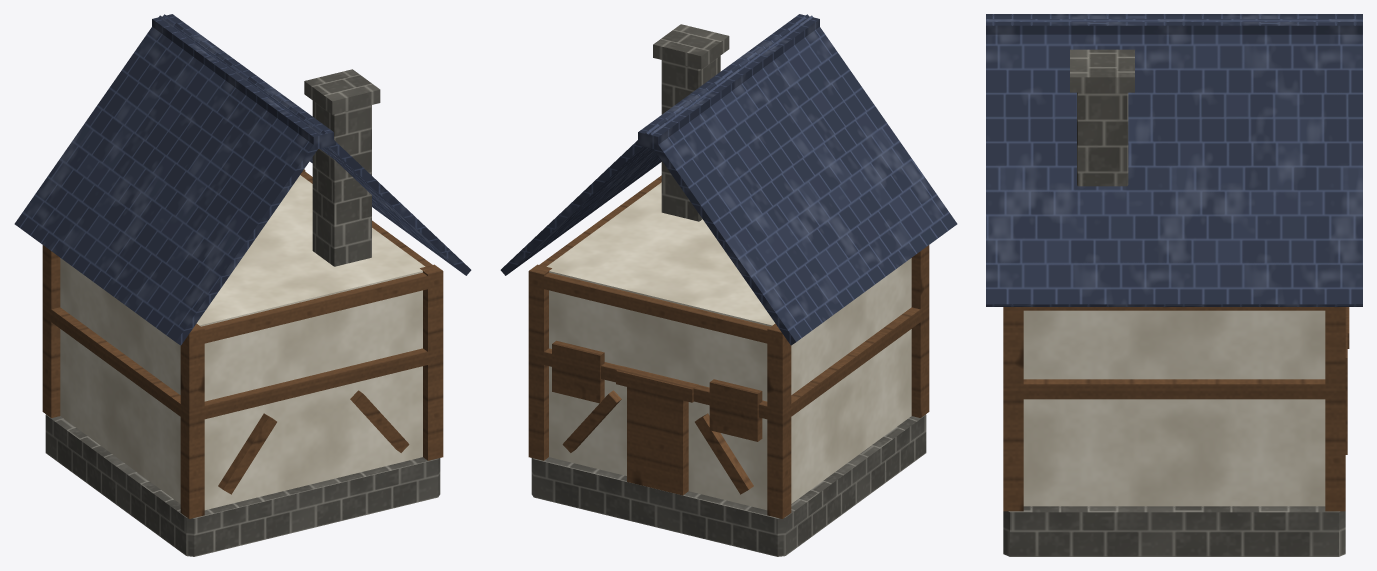
File: house.gltf
The picture shows the model from 3 angles, left to right: view 1: azimuth 30°, elevation 25°; view 2: azimuth 150°, elevation 25°; view 3: azimuth 270°, elevation 25°; orthographic projection. The views are drawn at different scales.
Visible parts, largest first — view 1: House; view 2: House; view 3: House.
Part boxes in pixels (x1,y1,x2,y2): House: (14, 14, 471, 556); House: (500, 14, 957, 556); House: (986, 14, 1362, 556).
Bounding box in the file's own units: 2.33 × 3.01 × 2.2.
8 materials, 7 textured.
